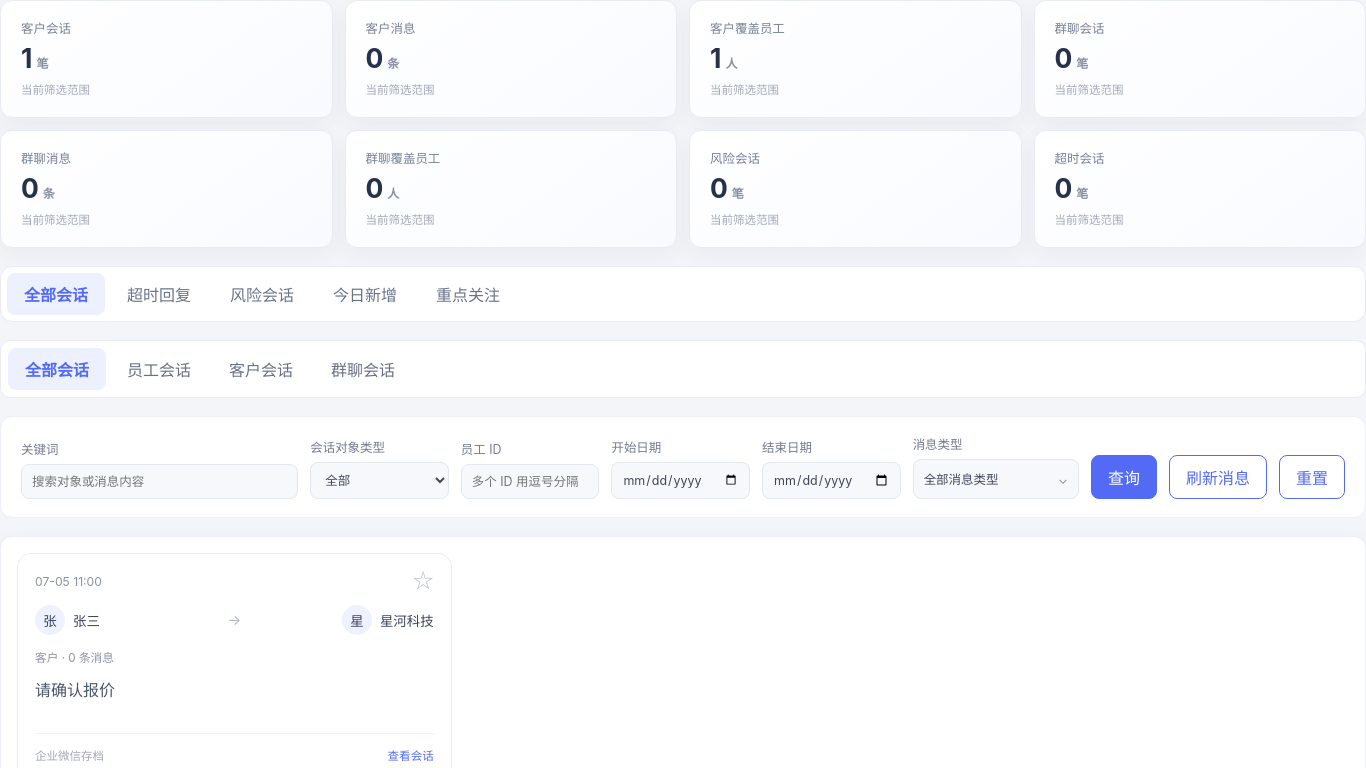
Test case: ConversationGlobalPage › shows honest query summaries and switches conversation type from quick filters
The image size is (1366, 768).
Expected: the element named "查询概览" is shown, [0,0,1365,248]
Expected: the navigation bar with class "conversation-global-type-tabs" is shown, [0,340,1365,398]
Click the button "客户会话". click: (261, 369)
box: [212,348,310,390]
(page scrolled)
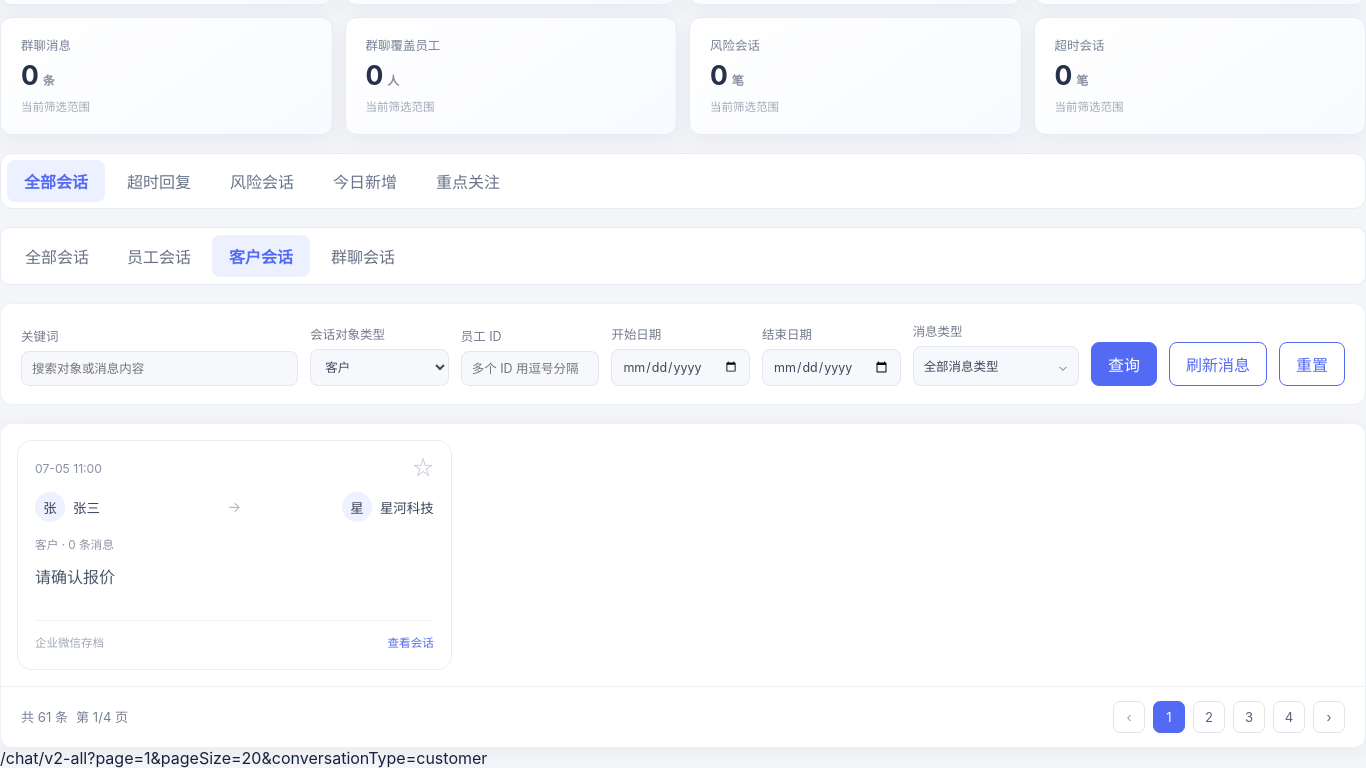
Expected: the text named "当前地址" shows "page=1", [87,748,487,767]
Now the text named "当前地址" shows "conversationType=customer", box [87,748,487,767]
